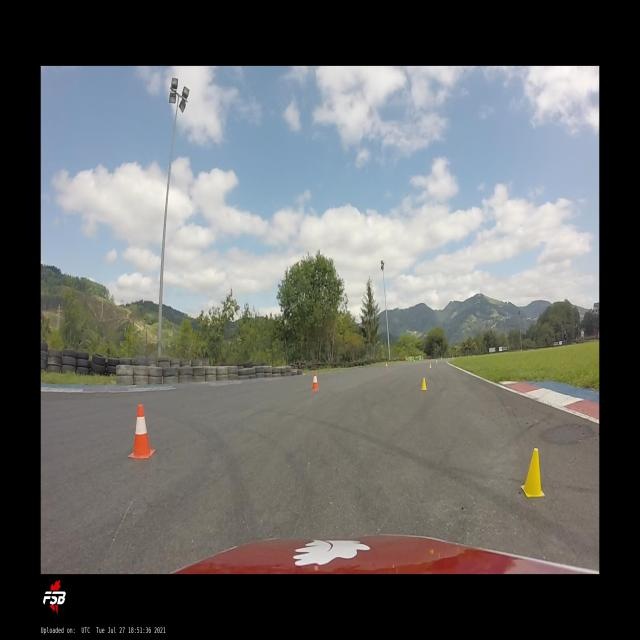orange_cone: (128, 405, 155, 459), (312, 372, 318, 390), (386, 363, 388, 369), (414, 360, 416, 362)
unknown_cone: (521, 448, 545, 497), (421, 378, 427, 390)
yellow_cone: (440, 357, 442, 360), (430, 363, 431, 368), (436, 359, 437, 363)
